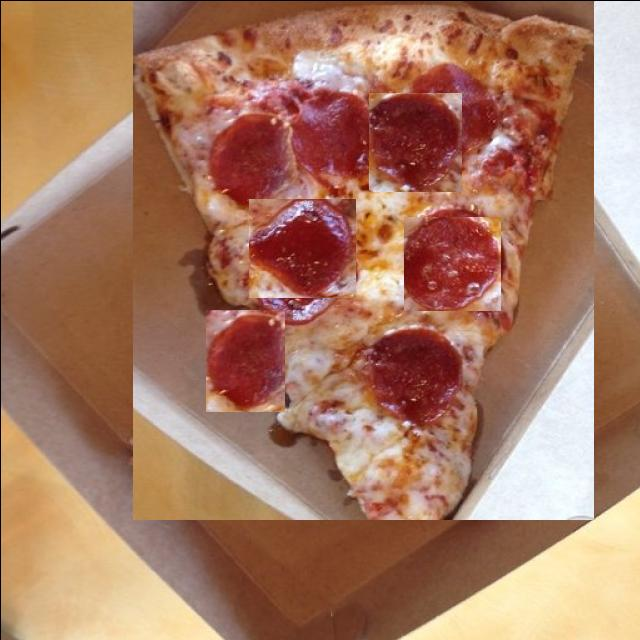pepperoni: (248, 198, 354, 297), (288, 334, 378, 446), (368, 92, 460, 191), (403, 216, 499, 310), (401, 364, 495, 458), (205, 309, 283, 411)
pizza: (130, 0, 592, 519)
